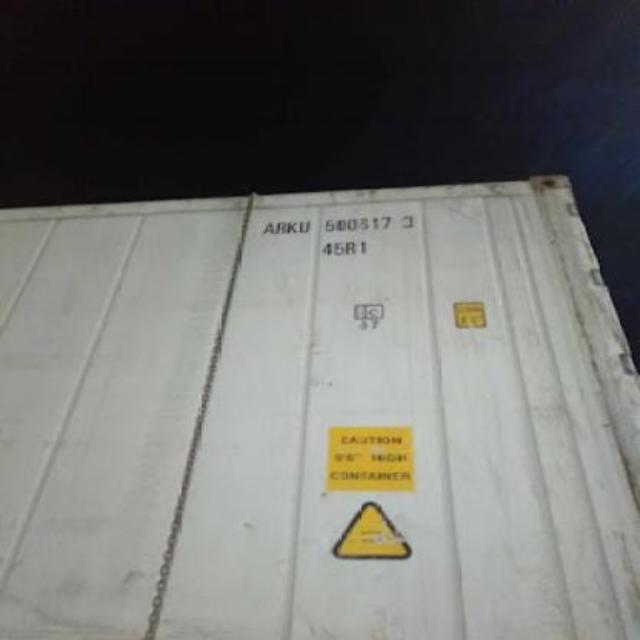0: (336, 215, 346, 233), (346, 215, 356, 231)
1: (370, 210, 380, 233)
3: (401, 208, 414, 228)
5: (324, 210, 334, 234)
6: (358, 211, 370, 231)
7: (380, 212, 392, 232)
A: (260, 218, 274, 238)
K: (286, 212, 298, 240)
R: (274, 213, 286, 237)
U: (298, 214, 312, 240)
